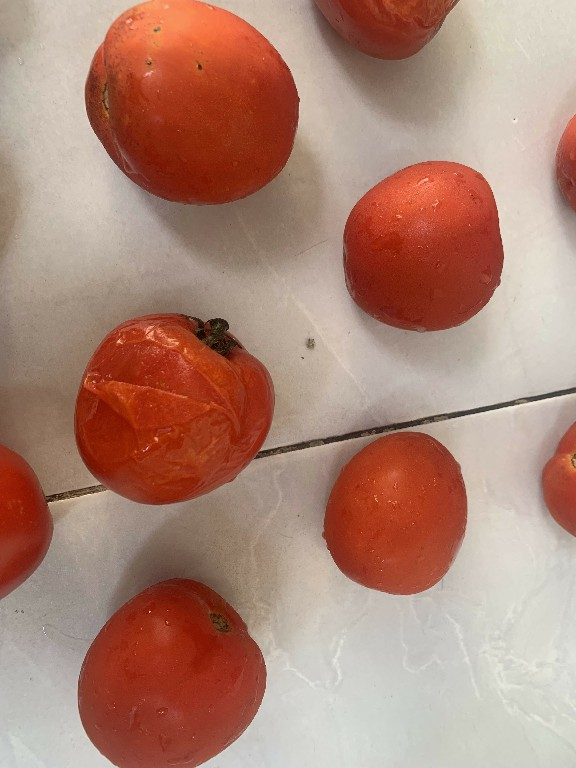NG: (83, 0, 308, 217), (62, 298, 290, 511)
OK: (54, 569, 264, 768), (338, 142, 505, 343), (319, 425, 476, 607)
